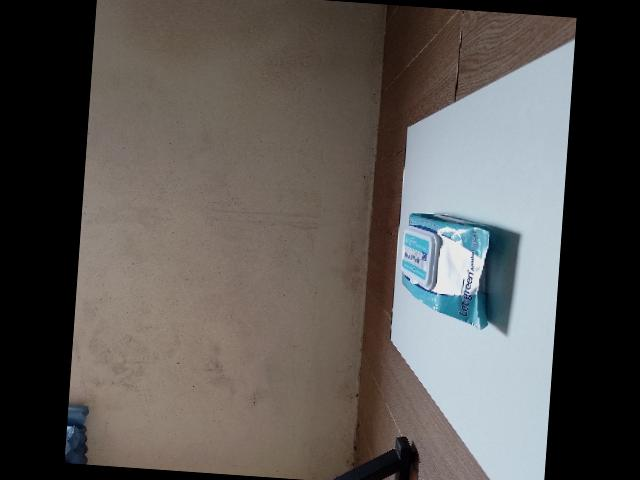Let-green_alcohol_wipes: (402, 209, 492, 329)
